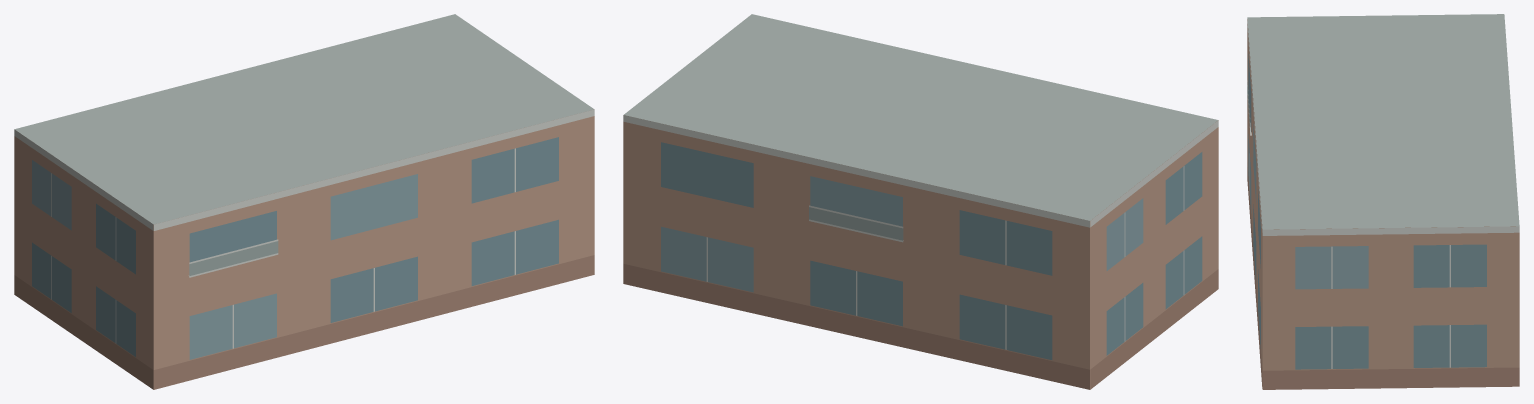
File: survey-upis-32705991.glb
The picture shows the model from 3 angles, left to right: view 1: azimuth 30°, elevation 25°; view 2: azimuth 150°, elevation 25°; view 3: azimuth 270°, elevation 25°; orthographic projection. The views are drawn at different scales.
Parts seen in each view (by area): view 1: survey-upis-32705991.tmp; view 2: survey-upis-32705991.tmp; view 3: survey-upis-32705991.tmp.
Boxes of the visible parts, left/top/right/bottom form: survey-upis-32705991.tmp: left=14, top=14, right=594, bottom=389; survey-upis-32705991.tmp: left=623, top=14, right=1218, bottom=389; survey-upis-32705991.tmp: left=1247, top=14, right=1519, bottom=389.
Size of the model in its own units: 17.61 by 6.1 by 9.4.
